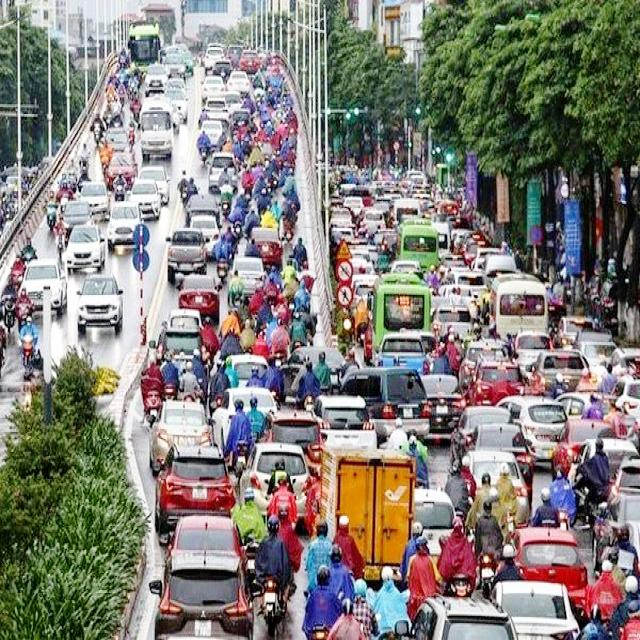Car: (148, 513, 254, 639), (322, 451, 415, 566), (502, 524, 589, 623), (154, 442, 236, 533), (338, 366, 430, 442), (240, 442, 312, 527), (394, 592, 518, 638), (496, 393, 569, 468), (460, 449, 531, 526), (490, 580, 580, 639), (148, 398, 213, 474), (211, 385, 278, 453), (264, 408, 325, 474), (494, 280, 552, 346), (311, 393, 377, 448), (412, 486, 457, 559), (420, 373, 466, 442), (529, 348, 592, 396), (75, 272, 123, 334), (18, 256, 67, 314), (469, 359, 526, 406), (164, 227, 208, 282), (376, 331, 429, 375), (177, 274, 221, 322), (65, 224, 106, 271), (106, 201, 143, 251), (128, 21, 163, 73), (408, 225, 445, 268), (384, 294, 426, 331), (142, 100, 170, 154), (231, 255, 266, 298), (127, 177, 161, 220), (224, 354, 268, 386), (188, 214, 219, 258), (138, 164, 170, 205), (207, 151, 238, 193), (104, 153, 137, 190), (78, 181, 110, 218), (255, 226, 282, 260), (203, 122, 224, 141)
